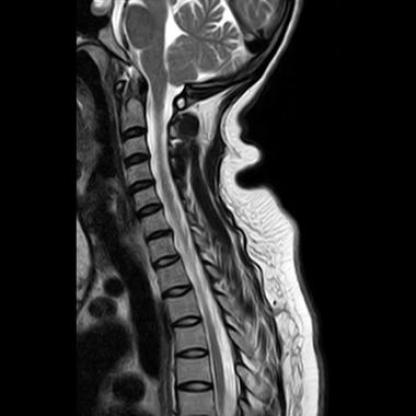Degenerative Disc Diseaserotation: (144, 224, 172, 242)
